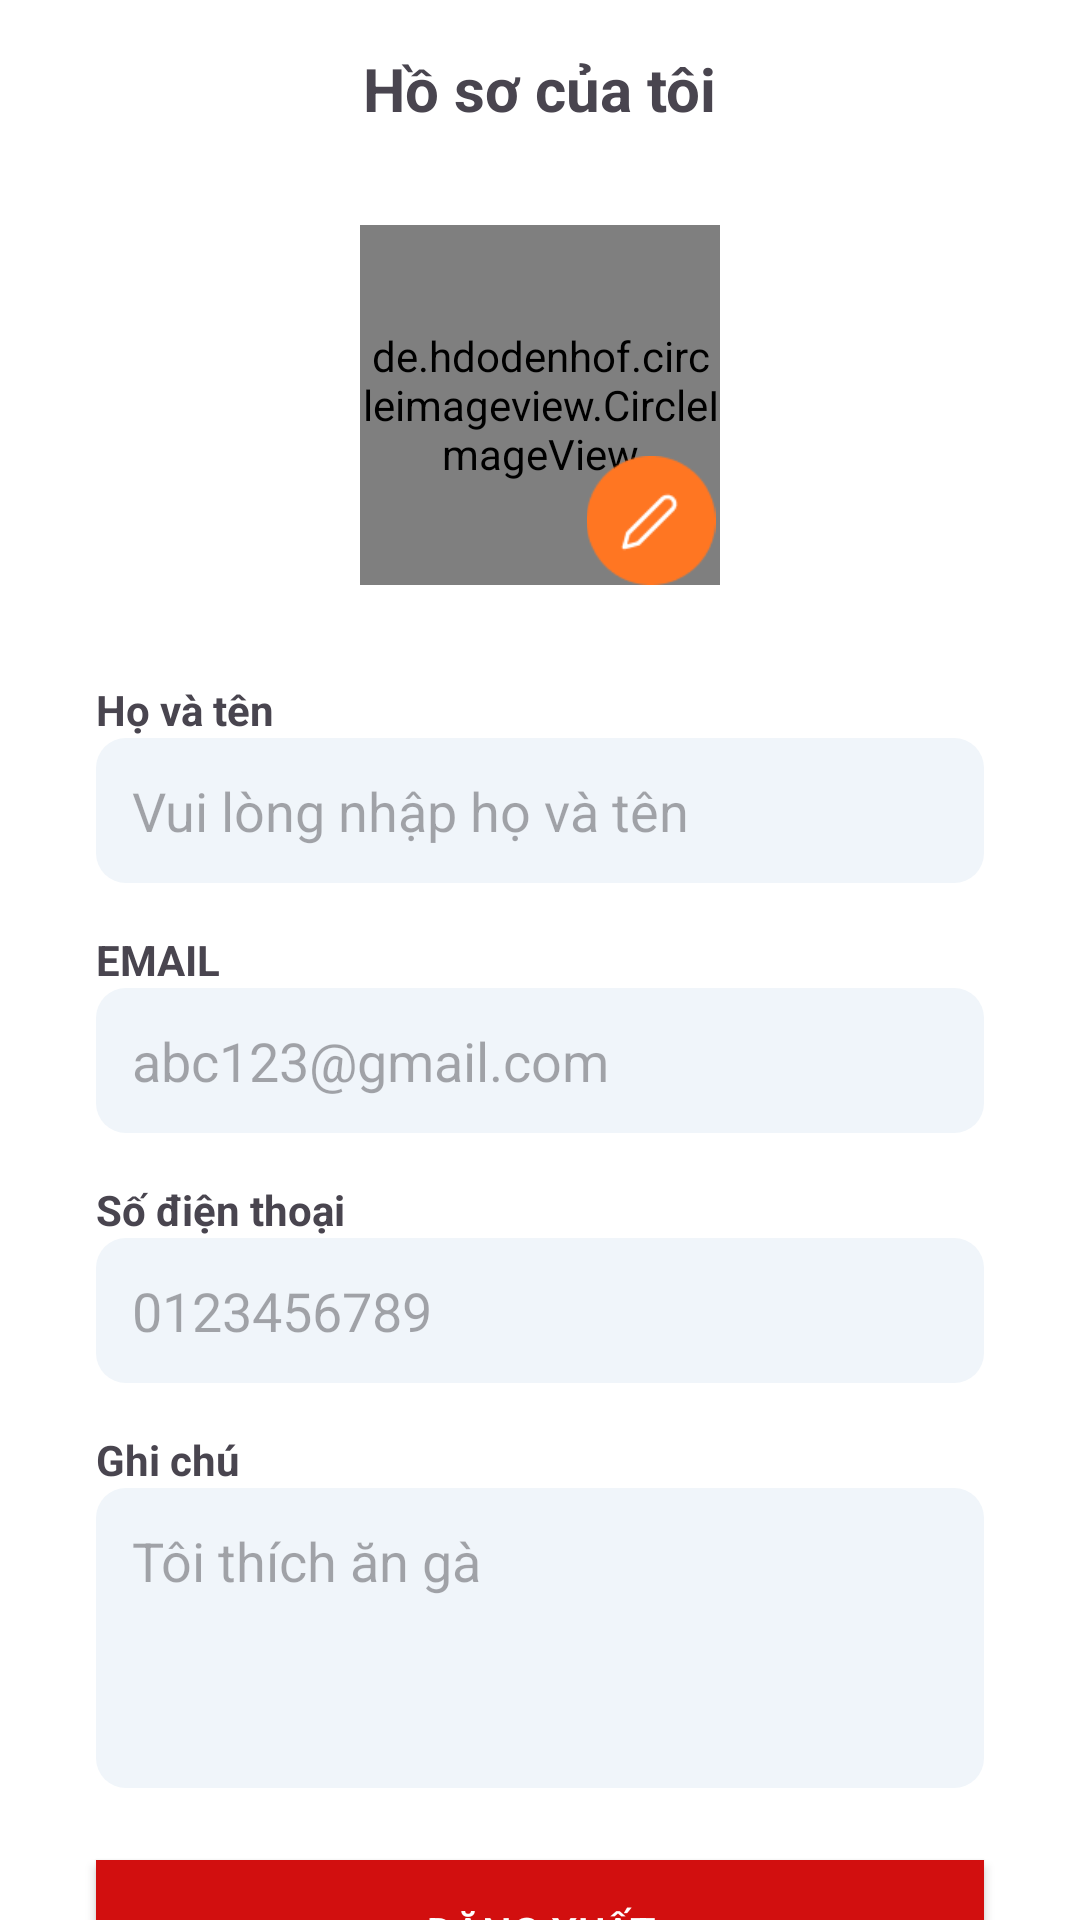

Icons on this 1080x1920 Android screen, each with the point to tap as [x,y]:
cayviet: [651,520]
